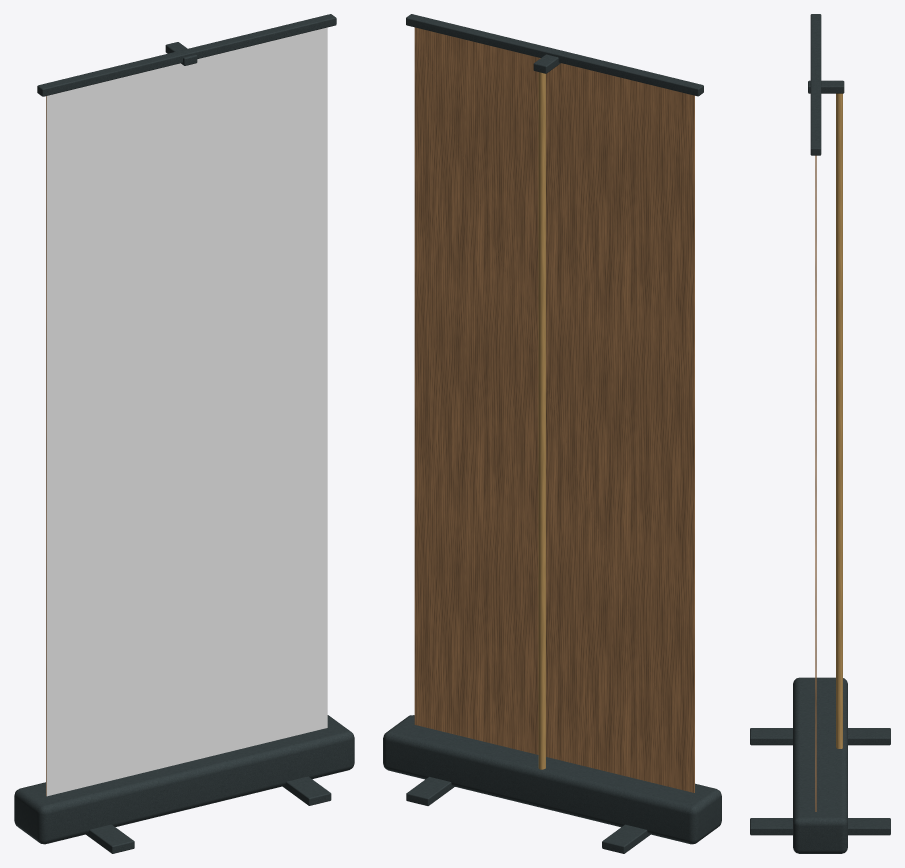
Rendered from preview.glb.
3 renders of one model, left to right at view 1: azimuth 30°, elevation 25°; view 2: azimuth 150°, elevation 25°; view 3: azimuth 270°, elevation 25°, orthographic. The views are drawn at different scales.
Parts seen in each view (by area): view 1: RollBanner; view 2: RollBanner; view 3: RollBanner.
Boxes of the visible parts, x1=… form: RollBanner: x1=14, y1=14, x2=354, y2=853; RollBanner: x1=383, y1=14, x2=721, y2=853; RollBanner: x1=750, y1=14, x2=890, y2=853.
Size of the model in its own units: 0.9 by 2.04 by 0.37.
4 materials, 3 textured.
